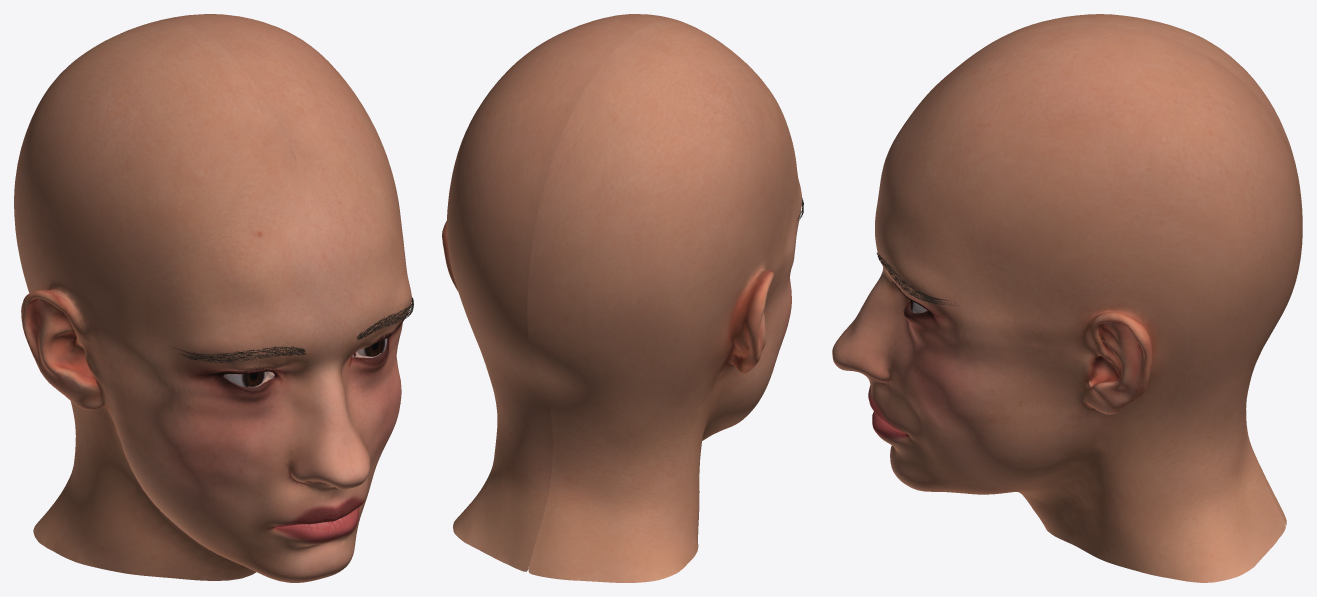
Rendered from head-input.glb.
3 views of the same model, side by side, from view 1: azimuth 30°, elevation 25°; view 2: azimuth 150°, elevation 25°; view 3: azimuth 270°, elevation 25° (orthographic). The views are drawn at different scales.
Parts seen in each view (by area): view 1: Rebuilt_pl2001_pl2001_Face_Mat, Reference | fuller individual eyebrow hairs, Rebuilt_pl2001_pl2001_Eyes_In_Mat; view 2: Rebuilt_pl2001_pl2001_Face_Mat; view 3: Rebuilt_pl2001_pl2001_Face_Mat.
Boxes of the visible parts, x1,y1,x2,y2 form: Rebuilt_pl2001_pl2001_Face_Mat: [14, 14, 411, 582]; Reference | fuller individual eyebrow hairs: [172, 297, 413, 362]; Rebuilt_pl2001_pl2001_Eyes_In_Mat: [224, 338, 387, 386]; Rebuilt_pl2001_pl2001_Face_Mat: [442, 14, 801, 582]; Rebuilt_pl2001_pl2001_Face_Mat: [832, 14, 1302, 582].
Size of the model in its own units: 0.1713 by 0.2453 by 0.2108.
5 materials, 2 textured.
